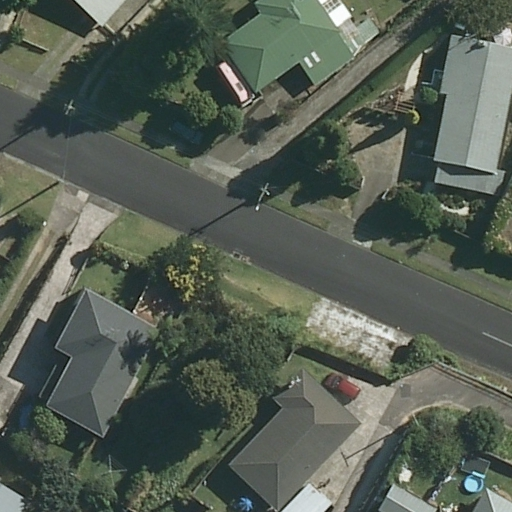DT: (253, 180, 270, 208), (62, 96, 77, 118)
